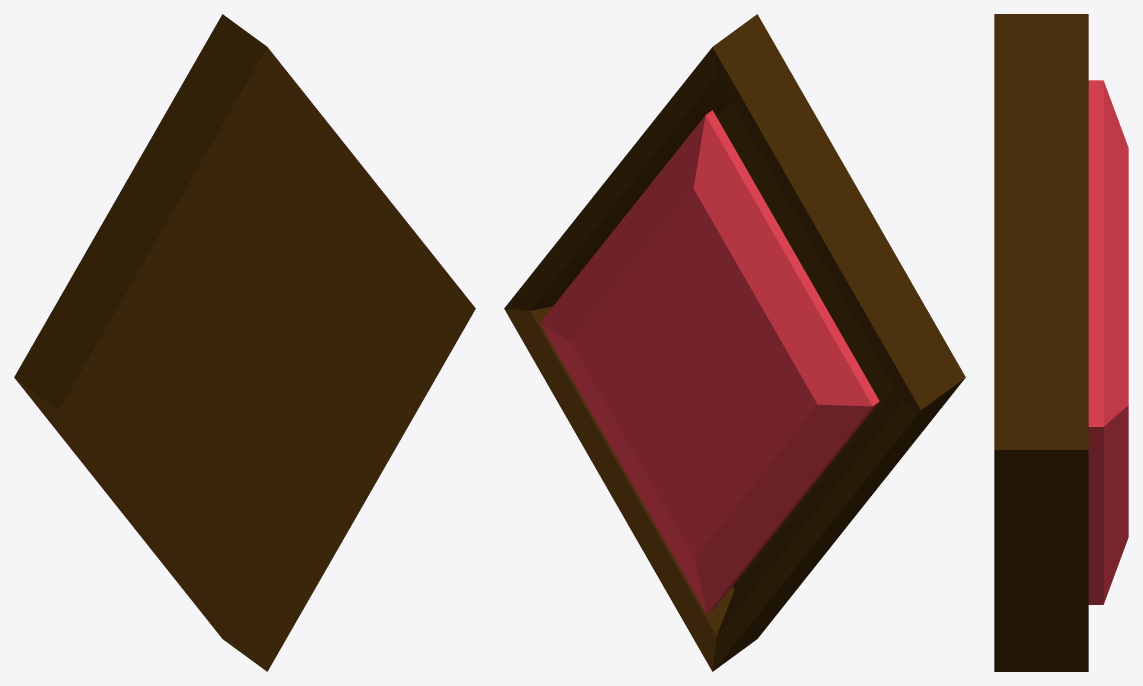
The model's file is GemHolder.fbx.
The picture shows the model from 3 angles, left to right: view 1: azimuth 30°, elevation 25°; view 2: azimuth 150°, elevation 25°; view 3: azimuth 270°, elevation 25°; orthographic projection. The views are drawn at different scales.
Visible parts, largest first — view 1: Cube; view 2: Cube.001, Cube; view 3: Cube, Cube.001.
Boxes of the visible parts, x1,y1,x2,y2 form: Cube: (14,14,475,671); Cube.001: (540,110,879,613); Cube: (504,14,965,671); Cube: (994,14,1088,671); Cube.001: (1088,80,1128,604).
Bounding box in the file's own units: 197 × 283 × 52.46.
